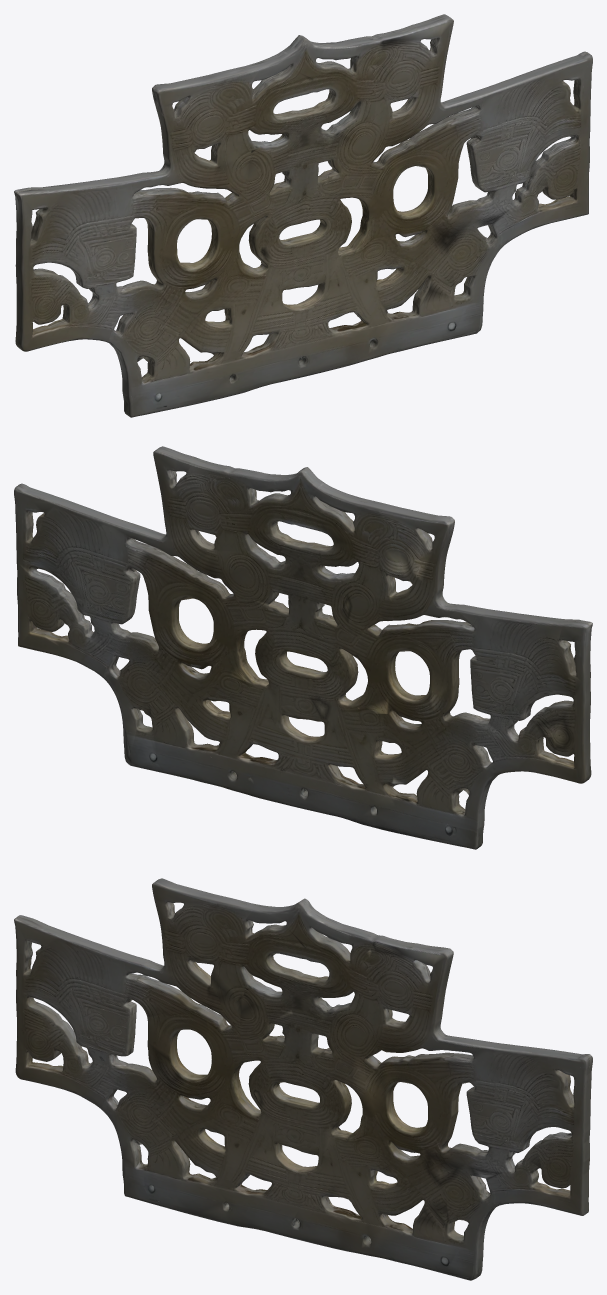
Rendered from jade-comb-detail.glb.
3 views of the same model, one above another, from view 1: azimuth 30°, elevation 25°; view 2: azimuth 150°, elevation 25°; view 3: azimuth 330°, elevation 25° (orthographic).
Parts seen in each view (by area): view 1: node_0; view 2: node_0; view 3: node_0.
Part boxes in pixels (<box>): node_0: <box>14,14,592,417</box>; node_0: <box>14,446,592,849</box>; node_0: <box>14,878,592,1280</box>.
Bounding box in the file's own units: 1.16 × 0.6533 × 0.0246.
Materials: 1 (1 with a texture image).
